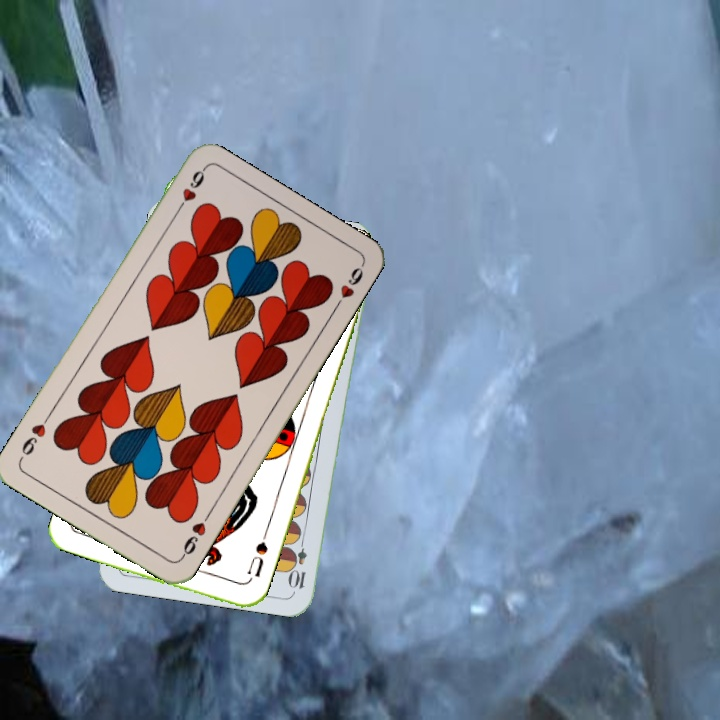E10: (288, 532, 310, 591)
H9: (176, 509, 214, 562), (171, 165, 208, 218)
SU: (243, 529, 271, 580)
